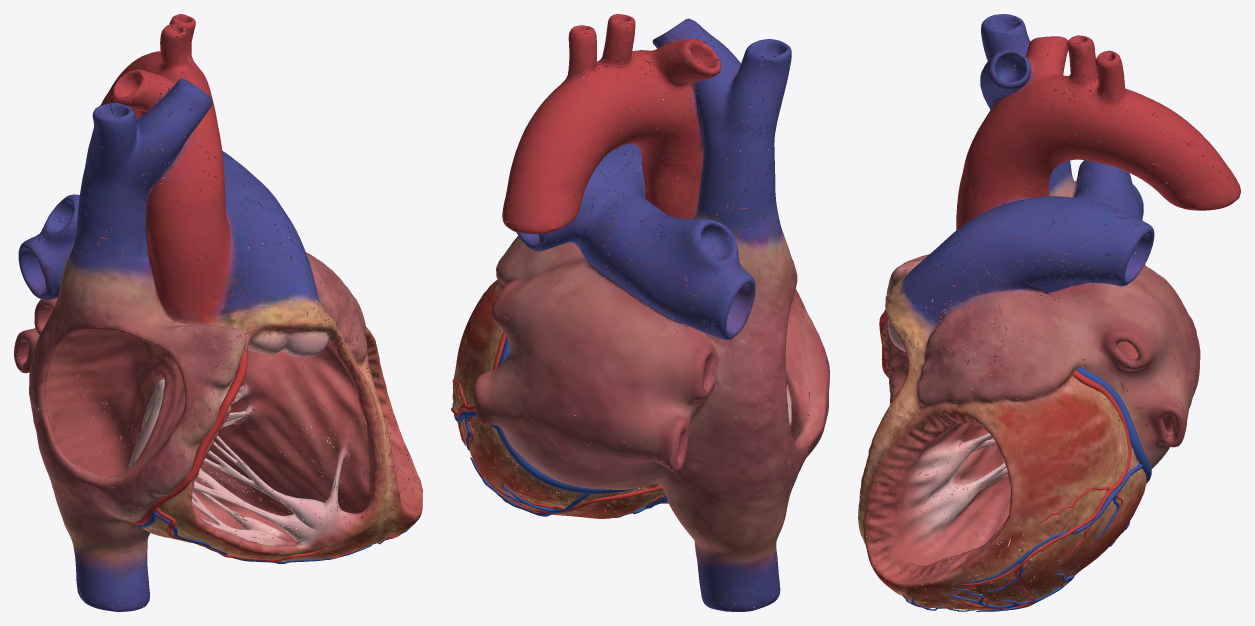
Rendered from interior.glb.
The picture shows the model from 3 angles, left to right: view 1: azimuth 30°, elevation 25°; view 2: azimuth 150°, elevation 25°; view 3: azimuth 270°, elevation 25°; orthographic projection. The views are drawn at different scales.
Visible parts, largest first — view 1: new, right (×2), small; view 2: new, coronary, posterior, cercumflex; view 3: new, cercumflex, posterior (×2), coronary.
Part boxes in pixels (left/top/right/bottom): new: left=14, top=14, right=422, bottom=611; right (×2): left=129, top=335, right=373, bottom=562; small: left=136, top=510, right=372, bottom=563; new: left=452, top=14, right=829, bottom=611; coronary: left=495, top=332, right=667, bottom=493; posterior: left=470, top=443, right=590, bottom=516; cercumflex: left=451, top=271, right=546, bottom=451; new: left=858, top=14, right=1240, bottom=609; cercumflex: left=951, top=370, right=1131, bottom=592; posterior (×2): left=947, top=463, right=1143, bottom=611; coronary: left=1059, top=357, right=1151, bottom=486.
Bounding box in the file's own units: 0.4778 × 0.7535 × 0.476.
Materials: 11 (1 with a texture image).
